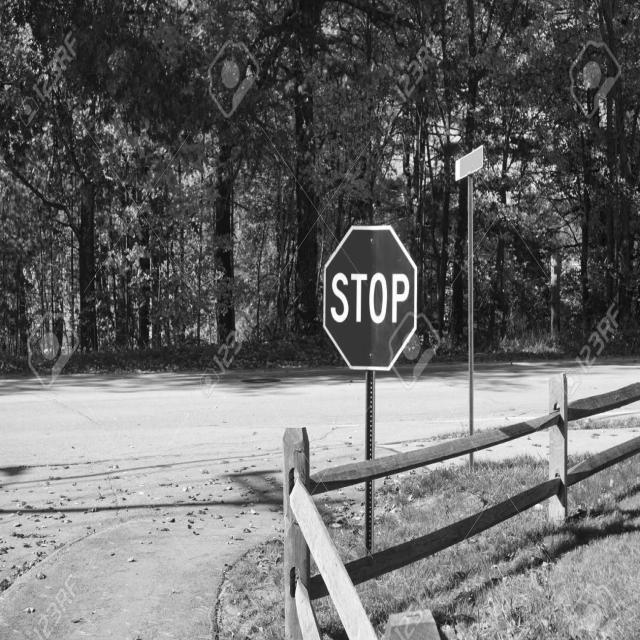Stop-sign: (310, 214, 428, 385)
